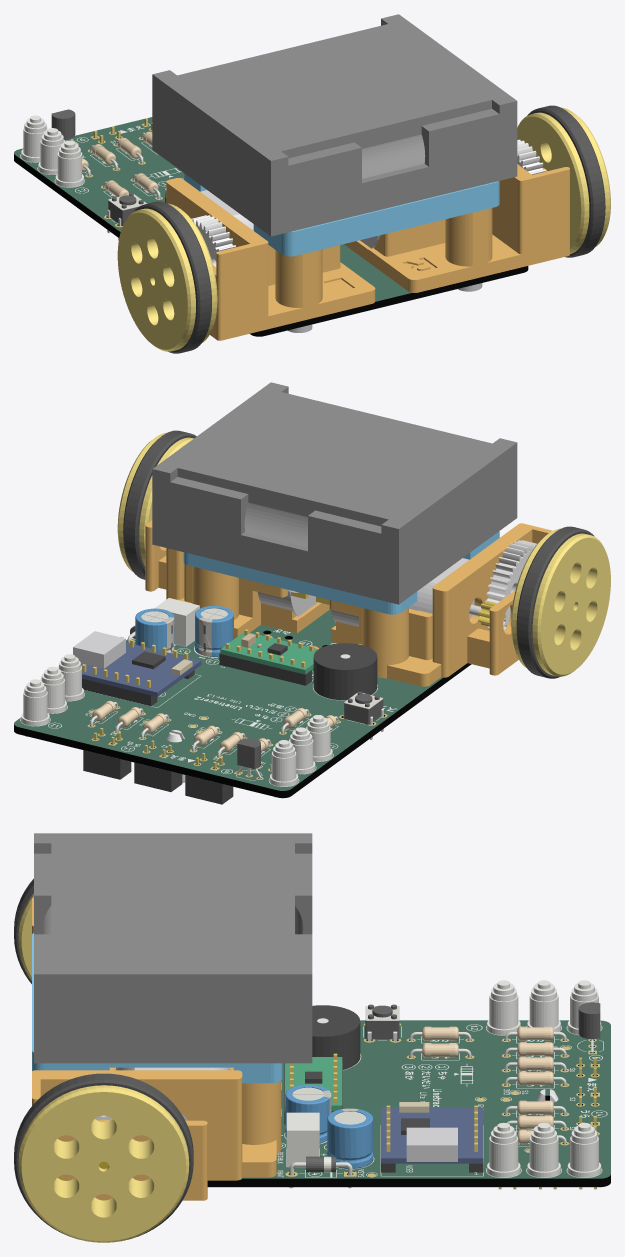
File: Linetracer2-Lite_assembly.glb
3 renders of one model, top to bottom at view 1: azimuth 30°, elevation 25°; view 2: azimuth 150°, elevation 25°; view 3: azimuth 270°, elevation 25°, orthographic. The views are drawn at different scales.
Size of the model in its own units: 99.6 by 46.59 by 104.
